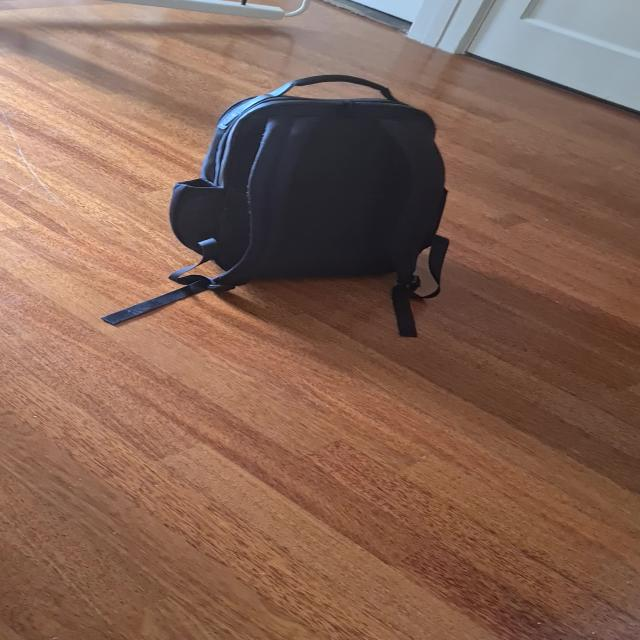backpack: (163, 67, 457, 289)
